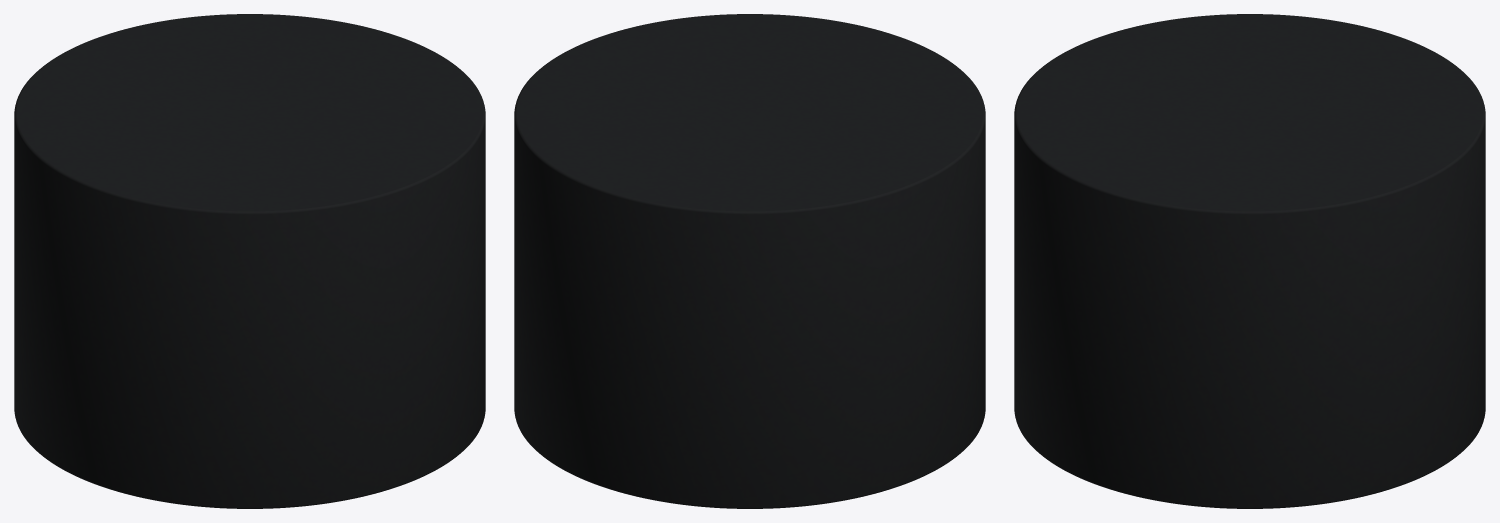
Rendered from caster_link.obj.
3 renders of one model, left to right at view 1: azimuth 30°, elevation 25°; view 2: azimuth 150°, elevation 25°; view 3: azimuth 270°, elevation 25°, orthographic.
Visible parts, largest first — view 1: caster_link__front_wheel; view 2: caster_link__front_wheel; view 3: caster_link__front_wheel.
Part boxes in pixels (left/top/right/bottom): caster_link__front_wheel: left=14, top=14, right=485, bottom=508; caster_link__front_wheel: left=514, top=14, right=985, bottom=508; caster_link__front_wheel: left=1014, top=14, right=1485, bottom=508.
Size of the model in its own units: 0.079 by 0.055 by 0.079.
1 material, 1 textured.
